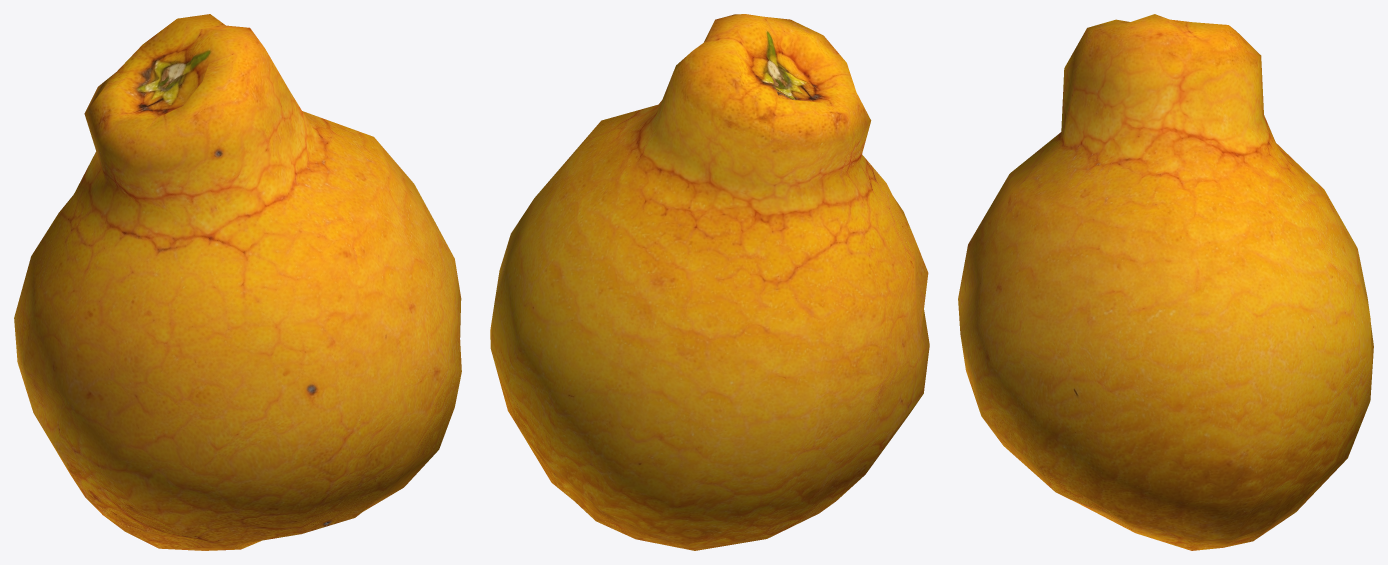
Rendered from A2_Sumo_low.fbx.
3 renders of one model, left to right at view 1: azimuth 30°, elevation 25°; view 2: azimuth 150°, elevation 25°; view 3: azimuth 270°, elevation 25°, orthographic. The views are drawn at different scales.
Visible parts, largest first — view 1: A2_Sumo_low; view 2: A2_Sumo_low; view 3: A2_Sumo_low.
Boxes of the visible parts, x1,y1,x2,y2 form: A2_Sumo_low: (14, 14, 461, 550); A2_Sumo_low: (490, 14, 929, 550); A2_Sumo_low: (958, 14, 1373, 550).
Size of the model in its own units: 7.65 by 7.47 by 9.62.
Materials: 1 (1 with a texture image).
